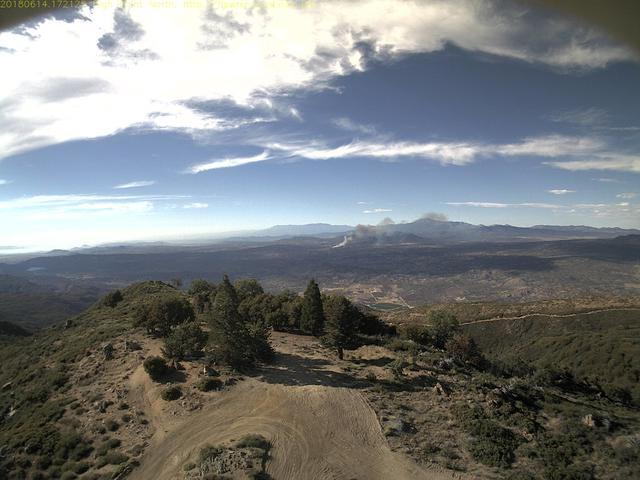smoke: (332, 207, 454, 254)
